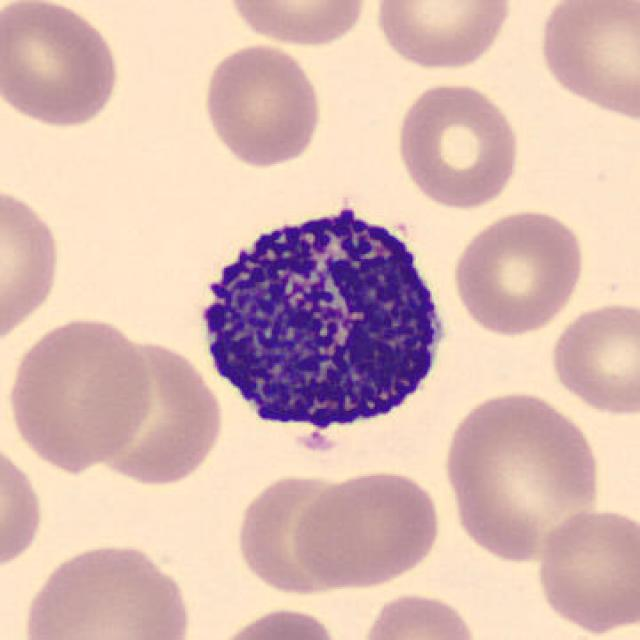Basophil: (183, 188, 459, 466)
RBC: (439, 386, 606, 566), (3, 312, 156, 474), (86, 342, 227, 494), (290, 466, 444, 592), (16, 536, 197, 640), (448, 204, 588, 338), (231, 466, 366, 600), (391, 78, 525, 210), (198, 39, 326, 171), (0, 0, 124, 132), (532, 502, 638, 636), (533, 0, 638, 123), (0, 180, 66, 352), (546, 298, 638, 418), (371, 0, 515, 72), (222, 0, 371, 49), (0, 434, 46, 580), (356, 589, 482, 640), (206, 603, 347, 640)
